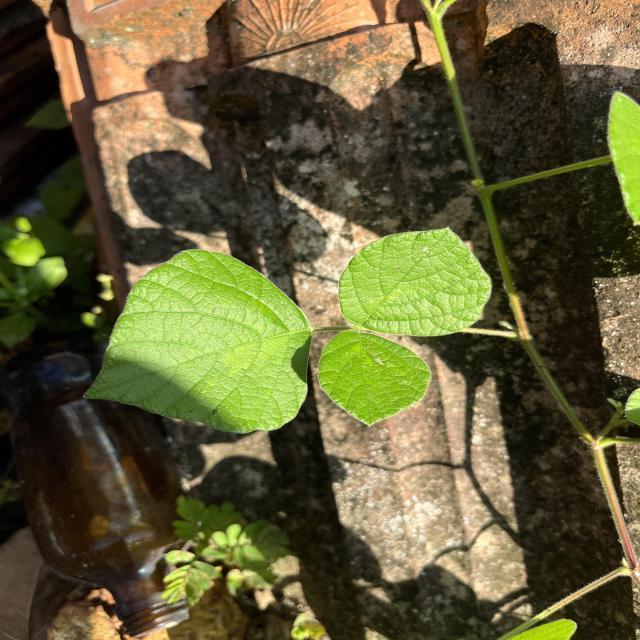Pseudarthria viscida: (77, 221, 500, 438)
